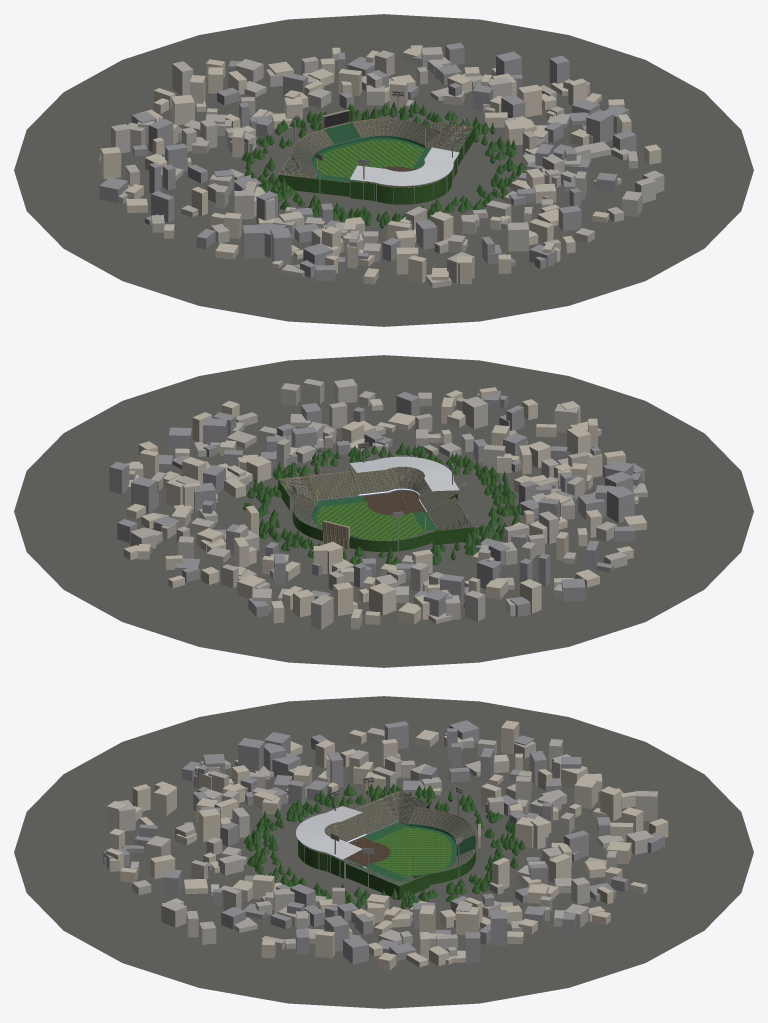
Rendered from stadium.glb.
3 renders of one model, top to bottom at view 1: azimuth 30°, elevation 25°; view 2: azimuth 150°, elevation 25°; view 3: azimuth 270°, elevation 25°, orthographic.
Visible parts, largest first — view 1: Scenery_Ground, Scenery_Town, Scenery_Trees, Field_Grass, Stand_Outfield, Roof_Ginsan, Stand_Infield, Stand_Alps_L, Stand_Alps_R; view 2: Scenery_Ground, Scenery_Town, Scenery_Trees, Field_Grass, Stand_Infield, Stand_Outfield, Stand_Alps_R, Roof_Ginsan, Stand_Alps_L, Field_Dirt; view 3: Scenery_Ground, Scenery_Town, Scenery_Trees, Field_Grass, Stand_Outfield, Roof_Ginsan, Stand_Alps_L, Stand_Infield, Stand_Alps_R, Field_Dirt.
Part boxes in pixels (x1,y1,x2,y2): Scenery_Ground: (14, 14, 753, 326); Scenery_Town: (99, 42, 664, 288); Scenery_Trees: (242, 101, 525, 228); Field_Grass: (316, 140, 423, 177); Stand_Outfield: (292, 118, 439, 171); Roof_Ginsan: (350, 147, 459, 186); Stand_Infield: (350, 157, 457, 204); Stand_Alps_L: (278, 157, 349, 196); Stand_Alps_R: (425, 122, 474, 165); Scenery_Ground: (14, 355, 753, 667); Scenery_Town: (109, 378, 647, 629); Scenery_Trees: (243, 442, 522, 565); Field_Grass: (316, 502, 423, 540); Stand_Infield: (350, 466, 457, 510); Stand_Outfield: (292, 494, 439, 552); Stand_Alps_R: (278, 471, 358, 510); Roof_Ginsan: (350, 456, 459, 491); Stand_Alps_L: (427, 496, 474, 545); Field_Dirt: (363, 490, 425, 515); Scenery_Ground: (14, 696, 753, 1008); Scenery_Town: (103, 720, 668, 970); Scenery_Trees: (244, 783, 525, 909); Field_Grass: (372, 827, 451, 877); Stand_Outfield: (409, 807, 475, 884); Roof_Ginsan: (296, 806, 362, 859); Stand_Alps_L: (351, 790, 429, 834); Stand_Infield: (298, 818, 365, 878); Stand_Alps_R: (346, 863, 429, 899); Field_Dirt: (346, 837, 390, 866).
Bounding box in the file's own units: 800 × 47.05 × 800.
41 materials, 27 textured.
